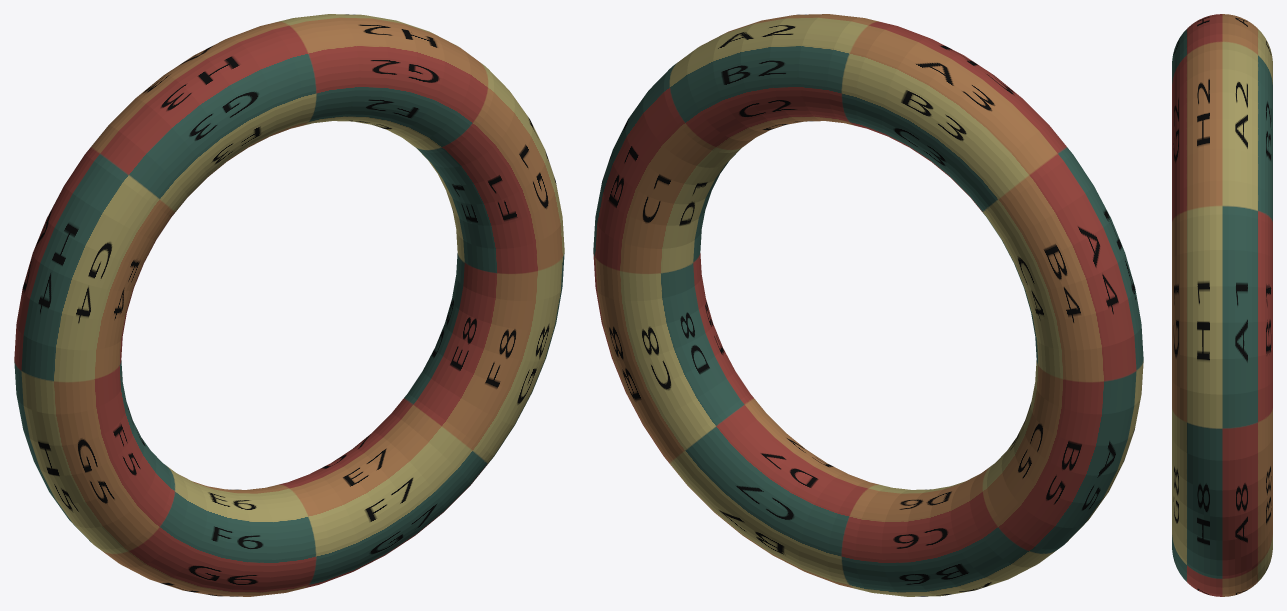
File: texture_torus_R28_r15.glb
3 renders of one model, left to right at view 1: azimuth 30°, elevation 25°; view 2: azimuth 150°, elevation 25°; view 3: azimuth 270°, elevation 25°, orthographic. The views are drawn at different scales.
Visible parts, largest first — view 1: world; view 2: world; view 3: world.
Part boxes in pixels (left/top/right/bottom): world: left=14, top=14, right=564, bottom=596; world: left=593, top=14, right=1143, bottom=596; world: left=1172, top=14, right=1272, bottom=596.
Size of the model in its own units: 34.67 by 34.6 by 5.99.
Materials: 1 (1 with a texture image).
